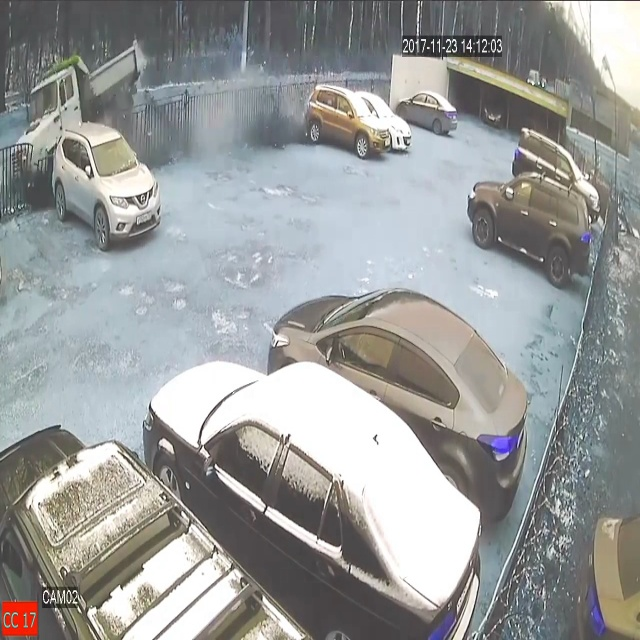acc: (11, 51, 156, 174)
